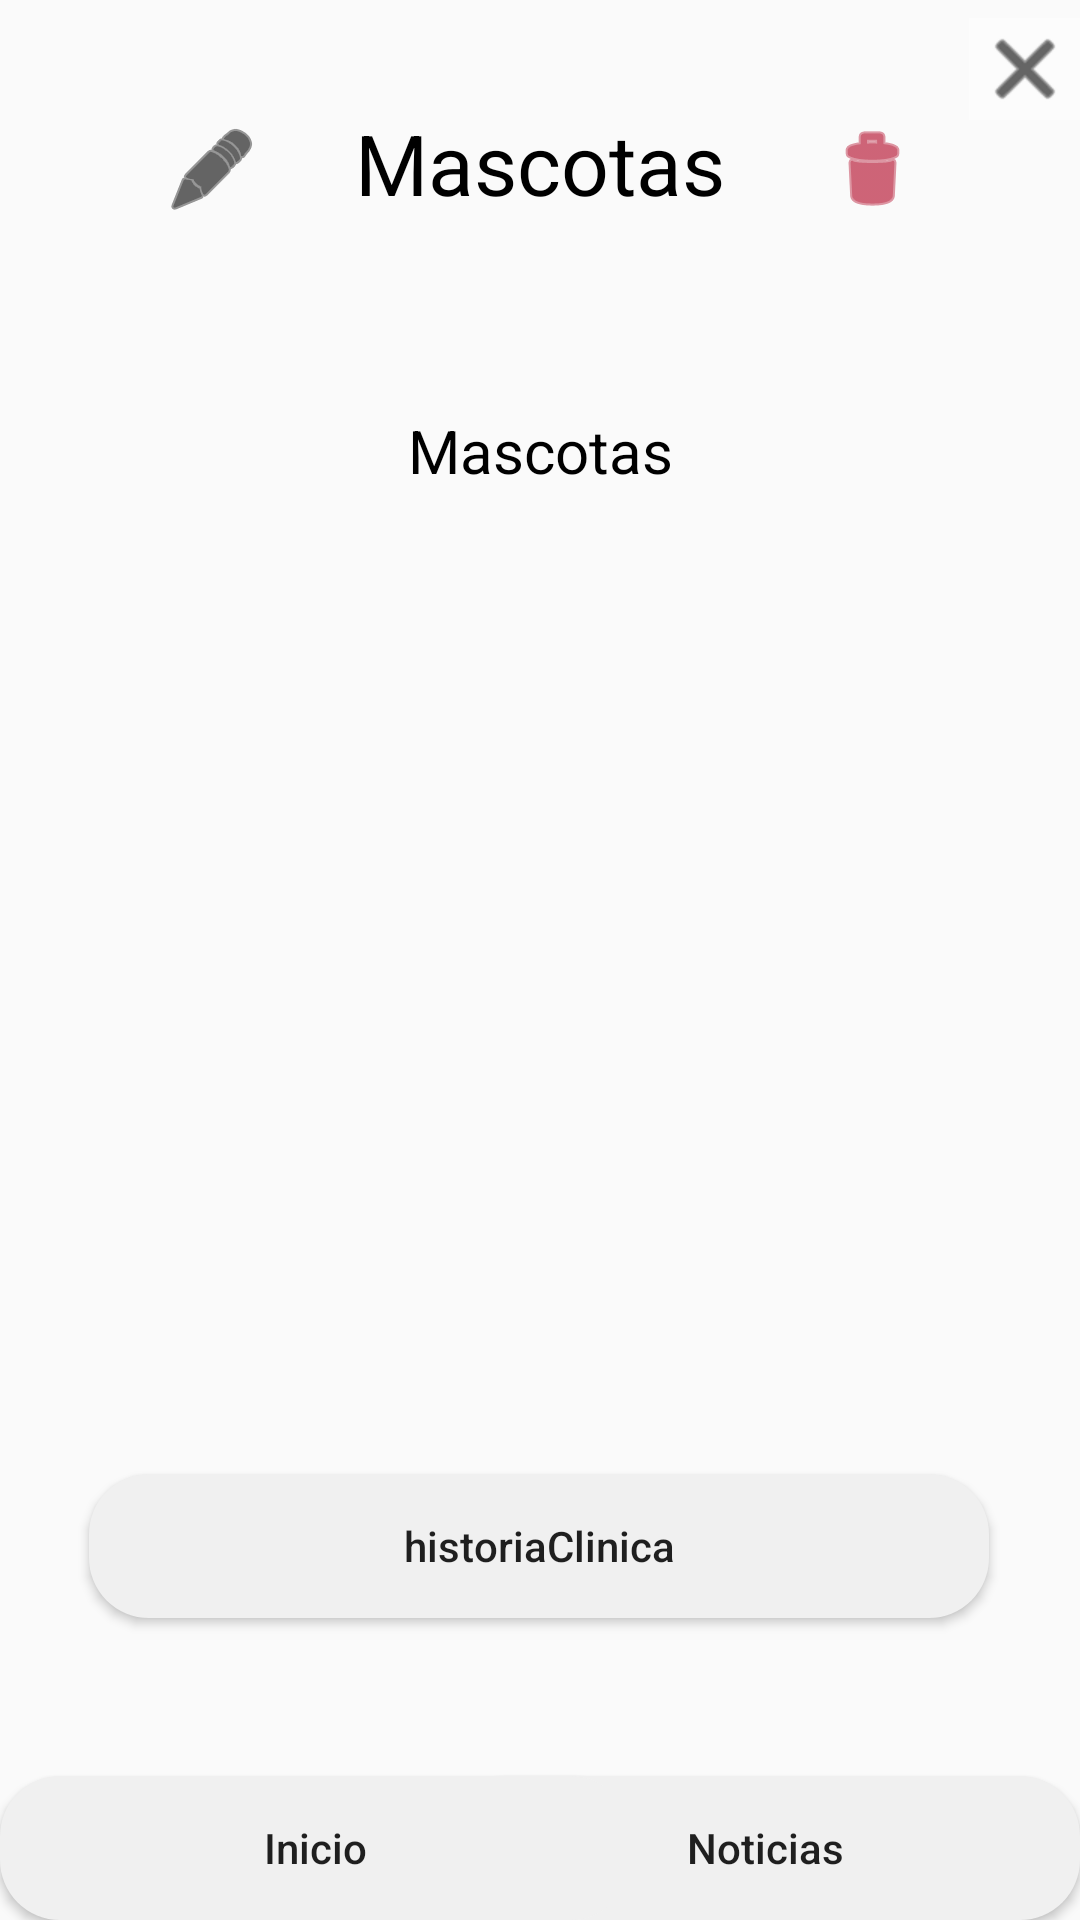

Named icons in this screenshot (1080x1920) and their bounding boxes, (x1=x1, y1=y1, x2=x2, y2=y2):
close clear cancel: (x1=995, y1=39, x2=1055, y2=99)
delete: (x1=845, y1=131, x2=900, y2=206)
edit: (x1=171, y1=129, x2=252, y2=210)
